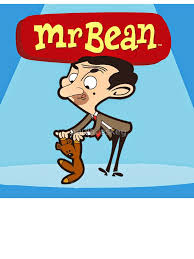mrbean: (53, 54, 137, 177)
